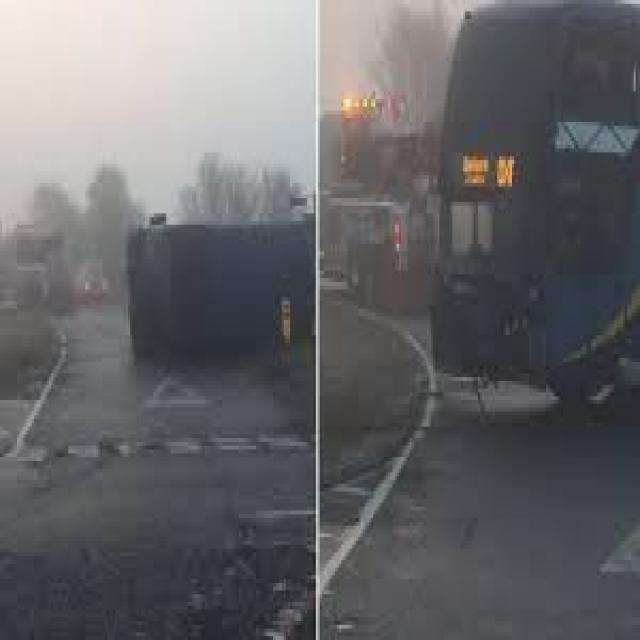Accident: (318, 4, 640, 413), (128, 210, 317, 375)
